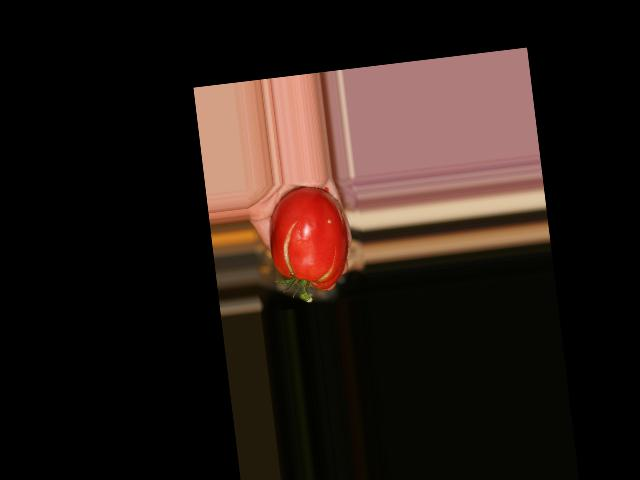tomato: (265, 182, 354, 295)
